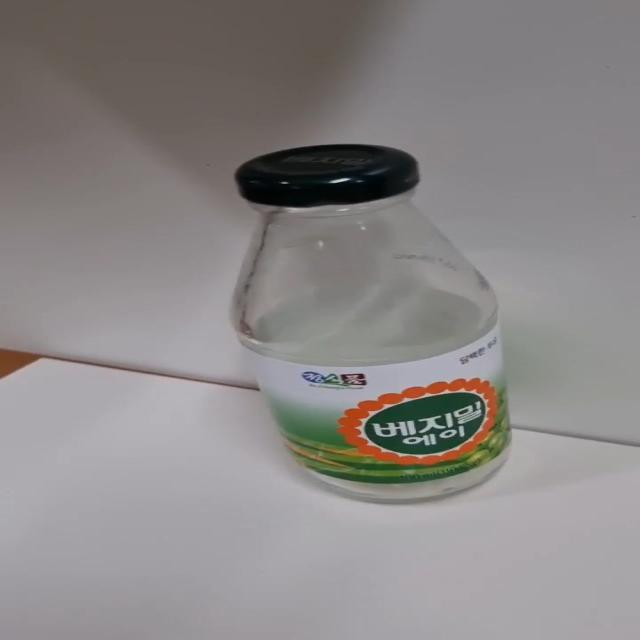Glass: (228, 139, 527, 500)
